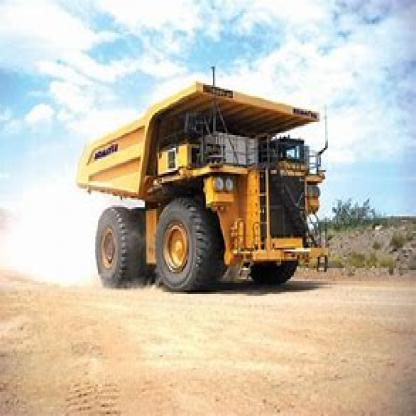dump_truck: (74, 76, 332, 292)
